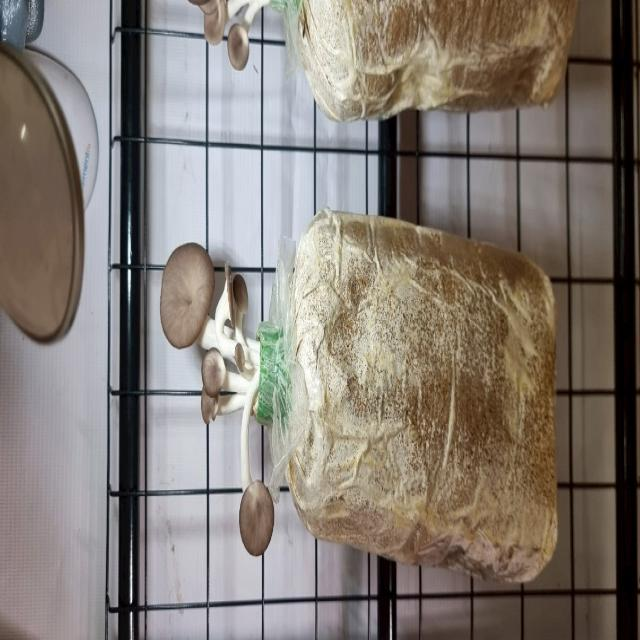normal: (159, 231, 269, 380), (233, 370, 281, 568), (194, 349, 265, 429)
